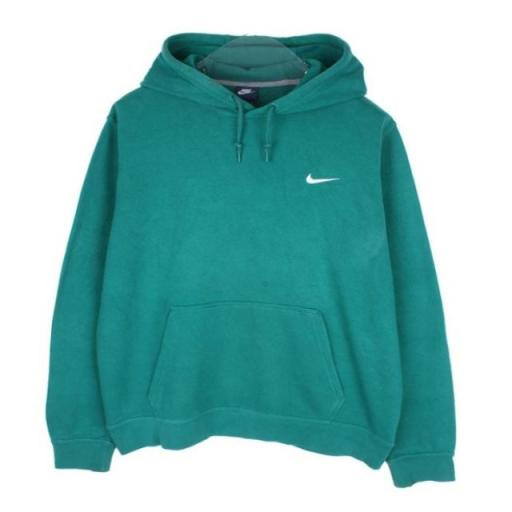Nike: (304, 168, 344, 186)
